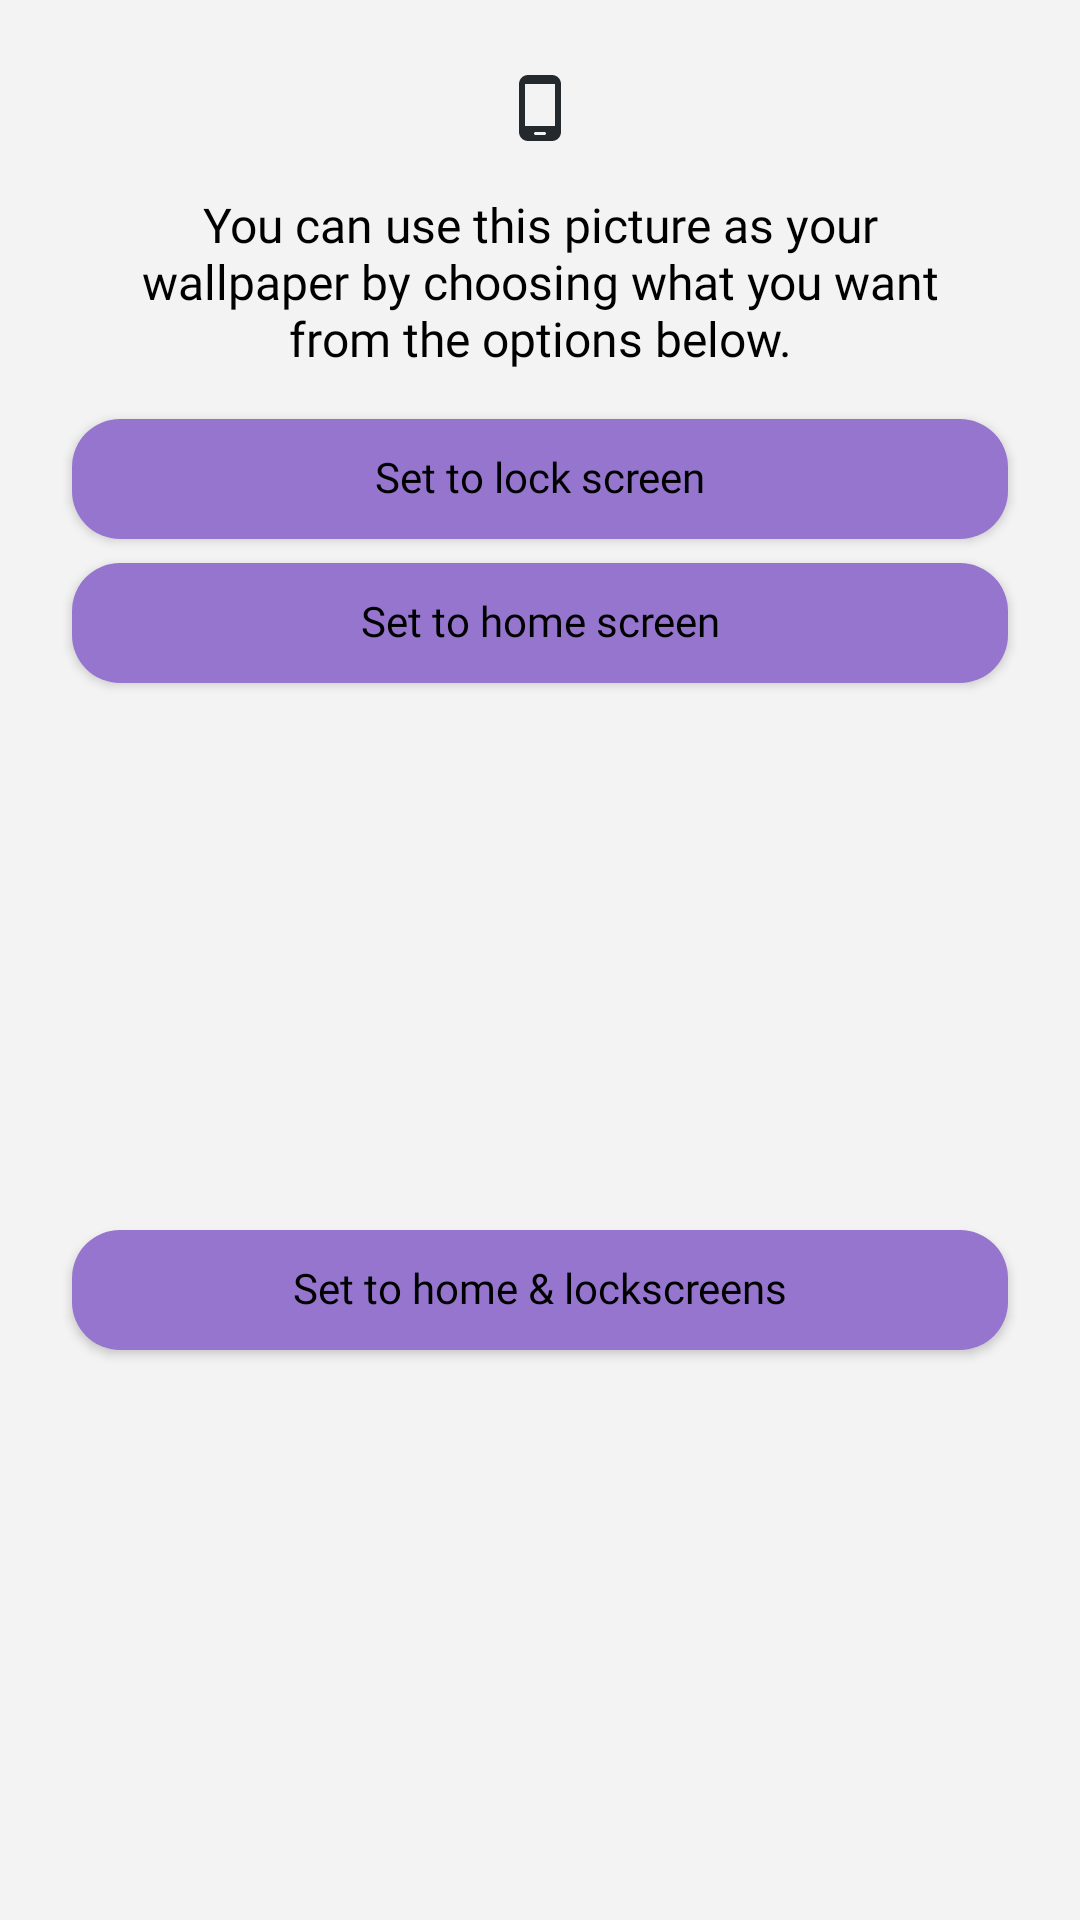

Screen size 1080px×1920px. Icon name, then its center in pixels as point (x, y):
phone: point (540, 108)
